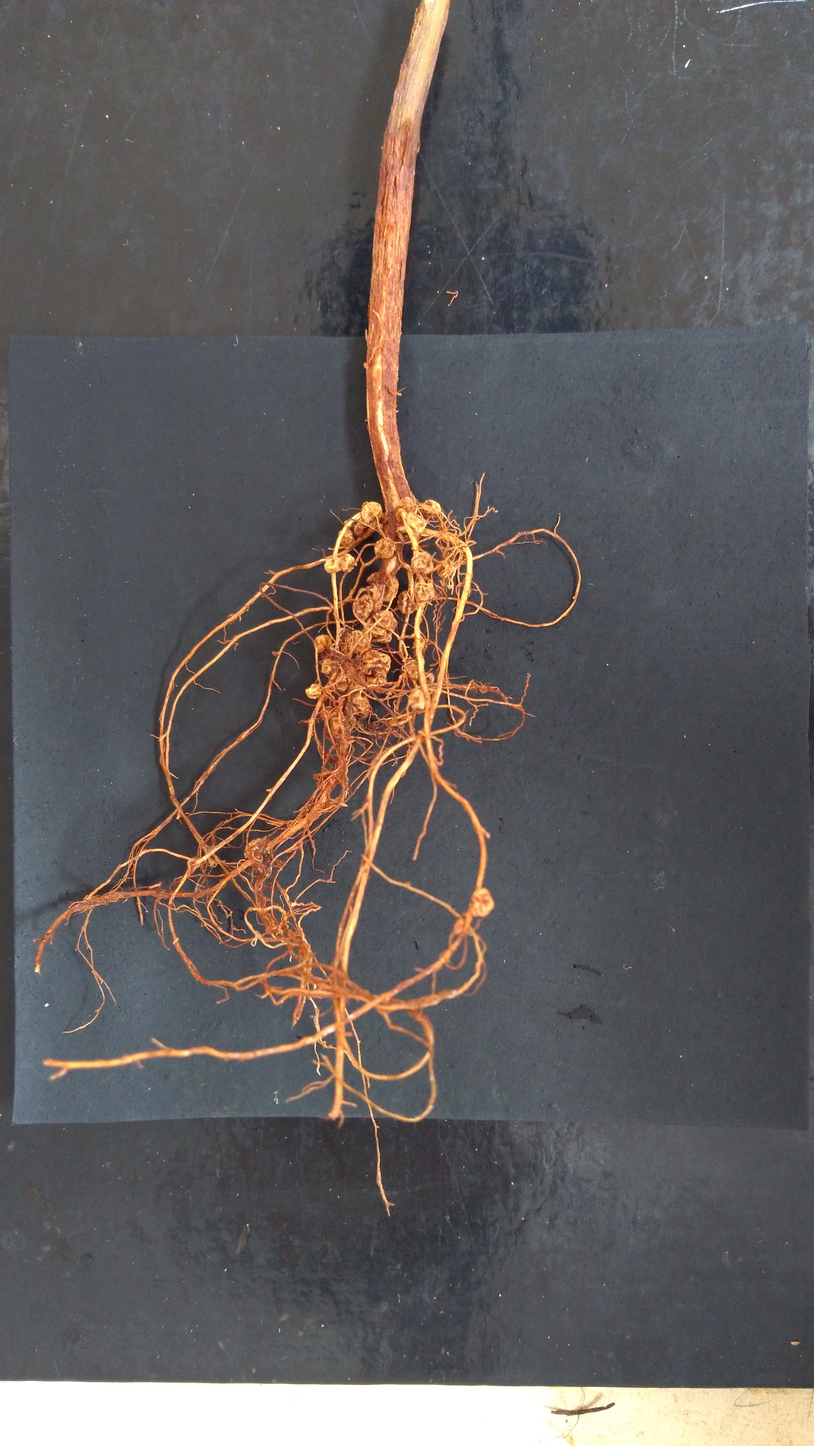nodule: (244, 836, 273, 879), (361, 648, 391, 686), (366, 573, 400, 602), (468, 886, 496, 918), (345, 690, 371, 719), (328, 715, 354, 742), (363, 621, 393, 644), (346, 629, 371, 654), (342, 657, 366, 683), (372, 610, 398, 633), (352, 594, 373, 622), (396, 589, 419, 614), (410, 552, 434, 575), (406, 510, 428, 535), (395, 525, 421, 546), (408, 688, 429, 714), (335, 626, 353, 653), (360, 501, 382, 523), (374, 537, 396, 559), (414, 582, 436, 604), (453, 912, 473, 936), (420, 499, 442, 519), (388, 711, 413, 727), (435, 560, 456, 579), (319, 705, 344, 720), (313, 634, 332, 653), (335, 673, 354, 692), (339, 553, 357, 573), (440, 546, 461, 563), (406, 658, 421, 681), (398, 496, 416, 515), (412, 635, 427, 657), (332, 757, 350, 775), (354, 517, 371, 536), (338, 528, 355, 547), (323, 557, 342, 574), (305, 683, 323, 700), (321, 655, 333, 676), (186, 856, 201, 871), (395, 507, 409, 523), (398, 639, 409, 657), (403, 881, 411, 888), (363, 362, 369, 370)
